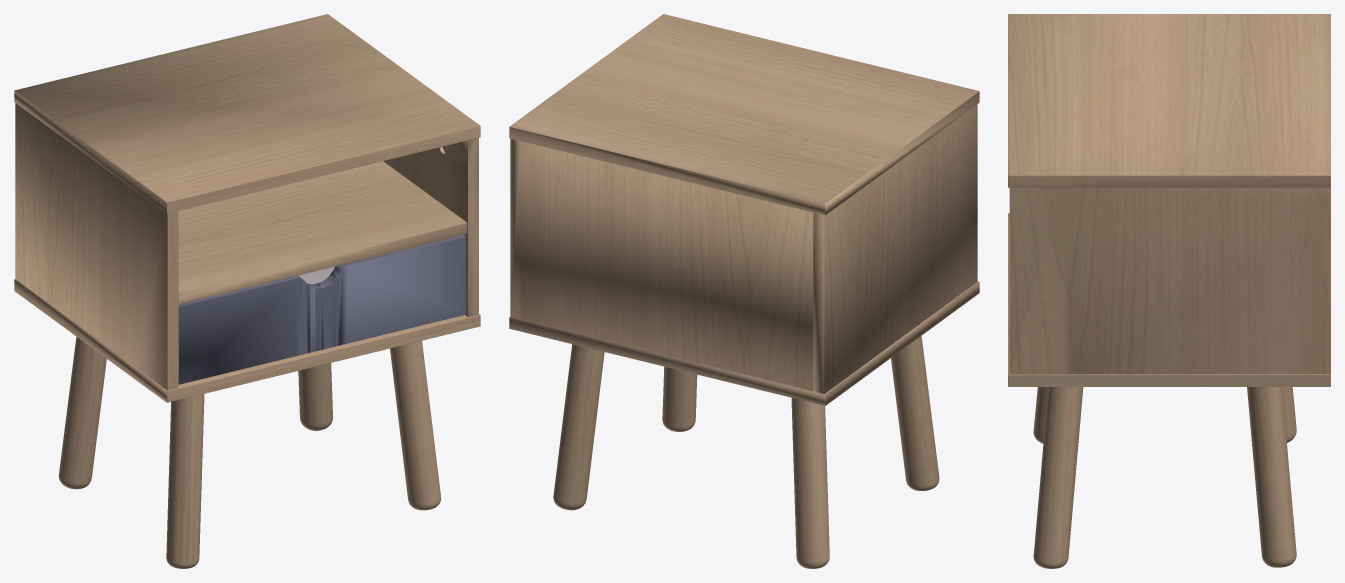
The model's file is B07RPZSM4W.glb.
3 renders of one model, left to right at view 1: azimuth 30°, elevation 25°; view 2: azimuth 150°, elevation 25°; view 3: azimuth 270°, elevation 25°, orthographic. The views are drawn at different scales.
Parts seen in each view (by area): view 1: B07RPZSM4W; view 2: B07RPZSM4W; view 3: B07RPZSM4W.
Boxes of the visible parts, x1,y1,x2,y2 form: B07RPZSM4W: (14, 14, 480, 568); B07RPZSM4W: (509, 14, 979, 568); B07RPZSM4W: (1008, 14, 1330, 568).
Size of the model in its own units: 0.45 by 0.53 by 0.38.
1 material, 1 textured.
